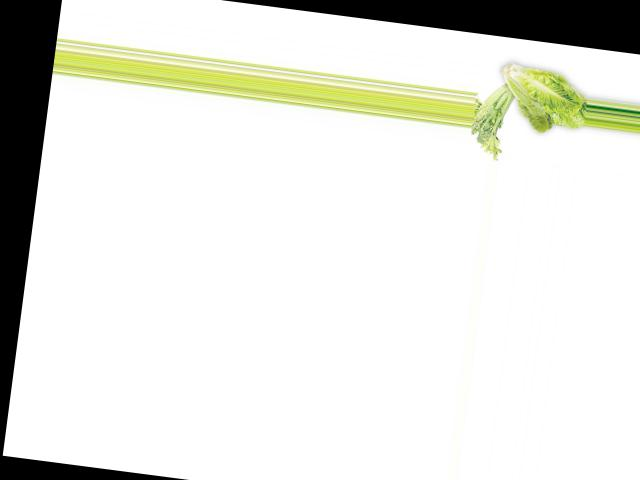lettuce: (488, 63, 591, 145)
